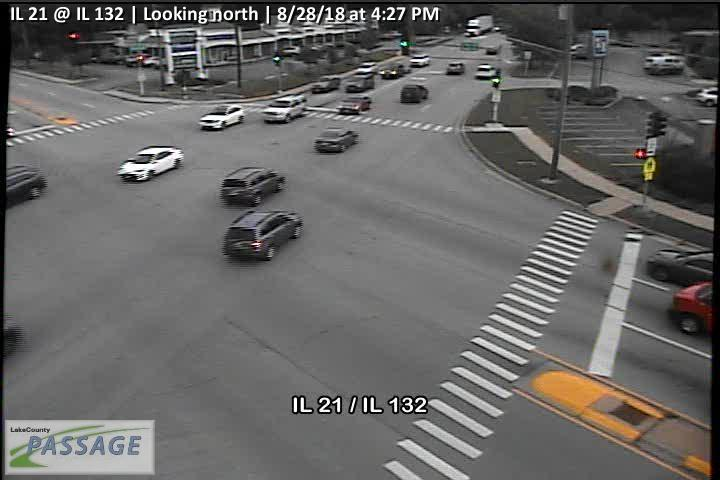SUV: (222, 210, 303, 260), (220, 166, 285, 207), (4, 164, 47, 206), (263, 93, 307, 123), (198, 103, 245, 130), (343, 72, 375, 93), (399, 83, 429, 103), (310, 75, 341, 93), (379, 62, 406, 78), (474, 63, 497, 79), (409, 53, 431, 67), (356, 61, 378, 74), (445, 61, 465, 75)
Sedan: (117, 146, 184, 181), (314, 127, 359, 153), (337, 94, 372, 114)
